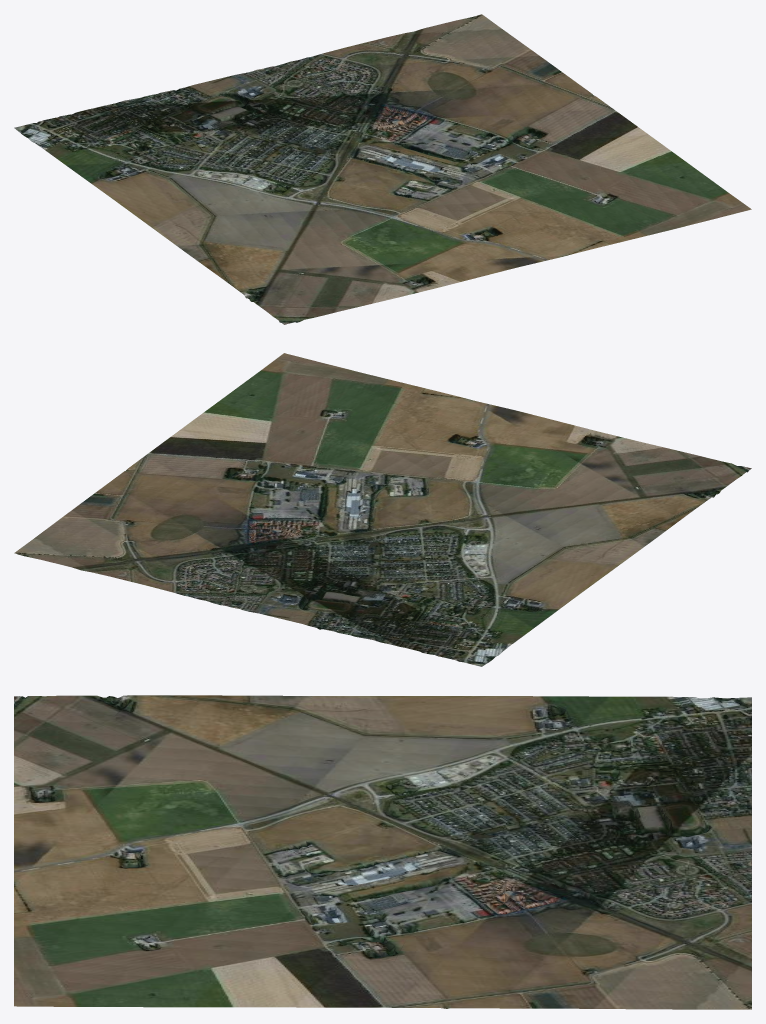
The model's file is map_10_254_429.dae.
3 renders of one model, top to bottom at view 1: azimuth 30°, elevation 25°; view 2: azimuth 150°, elevation 25°; view 3: azimuth 270°, elevation 25°, orthographic. The views are drawn at different scales.
Parts seen in each view (by area): view 1: Ter0; view 2: Ter0; view 3: Ter0.
Part boxes in pixels (box(x1,y1,x2,y2)): Ter0: box(14, 14, 751, 324); Ter0: box(14, 353, 751, 666); Ter0: box(14, 695, 751, 1009).
Size of the model in its own units: 2044 by 2044 by 31.39.
3 materials, 3 textured.
